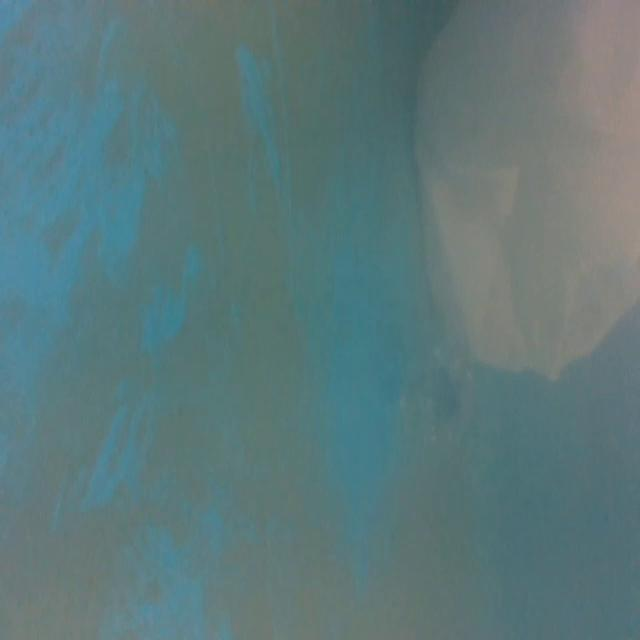plastic bags: (414, 0, 640, 381)
